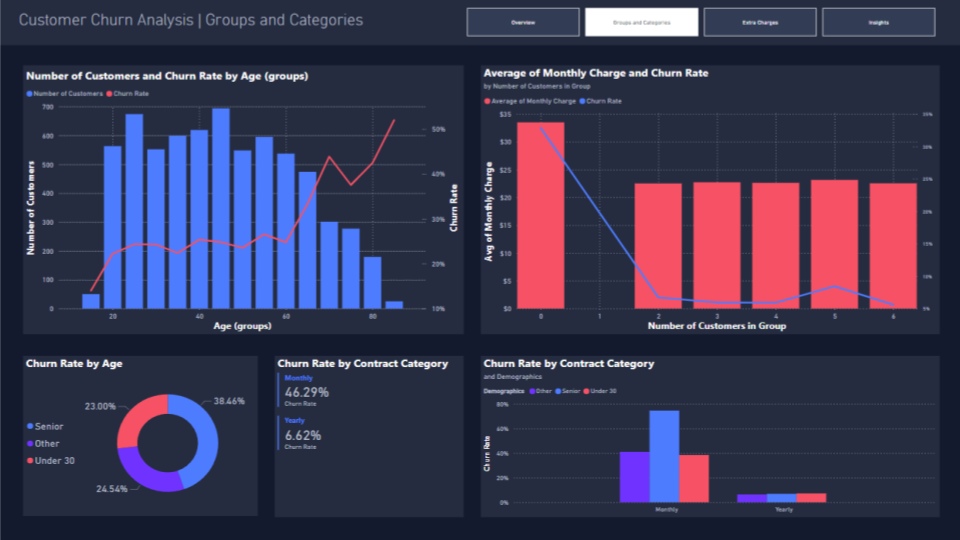

Layout of this report page (visuals, bound fields, positions):
{"tool":"powerbi","page":{"name":"Groups and Categories","canvas":[1640,960],"ordinal":1},"visuals":[{"type":"lineStackedColumnComboChart","title":"Number of Customers and Churn Rate by Age (groups)","fields":{"Y":["_Measures.Number of Customers"],"Category":["Databel - Data.Age (bins)"],"Y2":["_Measures.Churn Rate"]},"box":[38.9,126.1,751.4,475],"z":0,"group":"g1"},{"type":"lineClusteredColumnComboChart","title":"Average of Monthly Charge and Churn Rate","fields":{"Y2":["_Measures.Churn Rate"],"Y":["Avg(Databel - Data.Monthly Charge)"],"Category":["Databel - Data.Number of Customers in Group"]},"box":[819.4,126.1,781.9,475],"z":1000,"group":"g1"},{"type":"shape","box":[0,8,1640.2,83.1],"z":2000,"group":"g1"},{"type":"textbox","box":[28.3,24.3,651.1,57.6],"z":3000,"group":"g1"},{"type":"multiRowCard","title":"Churn Rate  by Contract Category","fields":{"Values":["Databel - Data.Contract Category","_Measures.Churn Rate"]},"box":[468.1,639.9,322.2,284.7],"z":4000,"group":"g1"},{"type":"clusteredColumnChart","title":"Churn Rate by Contract Category","fields":{"Y":["_Measures.Churn Rate"],"Category":["Databel - Data.Contract Category"],"Series":["Databel - Data.Demographics"]},"box":[819.4,639.9,781.9,284.7],"z":5000,"group":"g1"},{"type":"donutChart","title":"Churn Rate by Age","fields":{"Category":["Databel - Data.Demographics"],"Y":["_Measures.Churn Rate"]},"box":[38.9,639.9,400,283.3],"z":6000,"group":"g1"},{"type":"pageNavigator","box":[795.8,24.7,800,50],"z":7000,"group":"g1"},{"type":"group","id":"g1","title":"Group 1","box":[0,8,1640,917],"z":7001}]}

Visuals, with their boxes on the page's 1640x960 design canvas (x1, y1, x2, y2). These are canvas units, not pixel positions in the 960x540 screenshot, which may show the page scaled, cropped or inside an application window:
"Number of Customers and Churn Rate by Age (groups)" lineStackedColumnComboChart: rect(39, 126, 790, 601)
"Average of Monthly Charge and Churn Rate" lineClusteredColumnComboChart: rect(819, 126, 1601, 601)
shape: rect(0, 8, 1640, 91)
textbox: rect(28, 24, 679, 82)
"Churn Rate  by Contract Category" multiRowCard: rect(468, 640, 790, 925)
"Churn Rate by Contract Category" clusteredColumnChart: rect(819, 640, 1601, 925)
"Churn Rate by Age" donutChart: rect(39, 640, 439, 923)
pageNavigator: rect(796, 25, 1596, 75)
"Group 1" group: rect(0, 8, 1640, 925)
